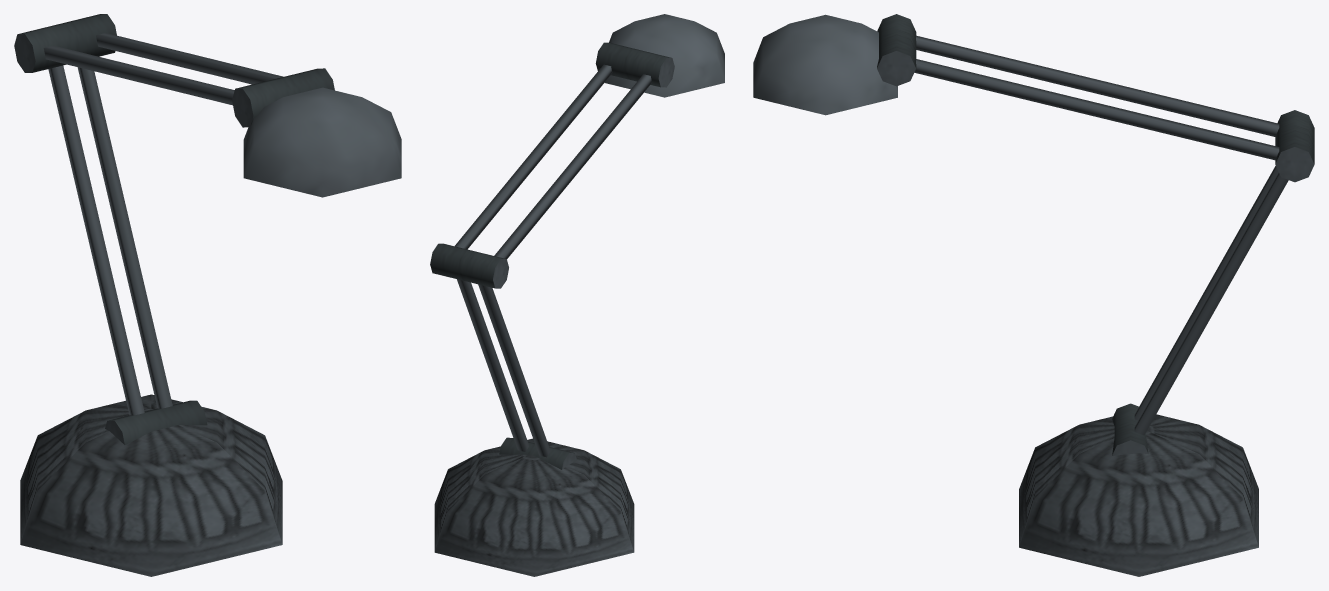
File: desk_lamp_02.fbx
3 views of the same model, side by side, from view 1: azimuth 30°, elevation 25°; view 2: azimuth 150°, elevation 25°; view 3: azimuth 270°, elevation 25° (orthographic). The views are drawn at different scales.
Visible parts, largest first — view 1: desk_lamp_02; view 2: desk_lamp_02; view 3: desk_lamp_02.
Boxes of the visible parts, x1,y1,x2,y2 form: desk_lamp_02: [14, 14, 401, 576]; desk_lamp_02: [430, 14, 724, 576]; desk_lamp_02: [753, 14, 1314, 576].
Bounding box in the file's own units: 18.48 × 36.32 × 37.43.
